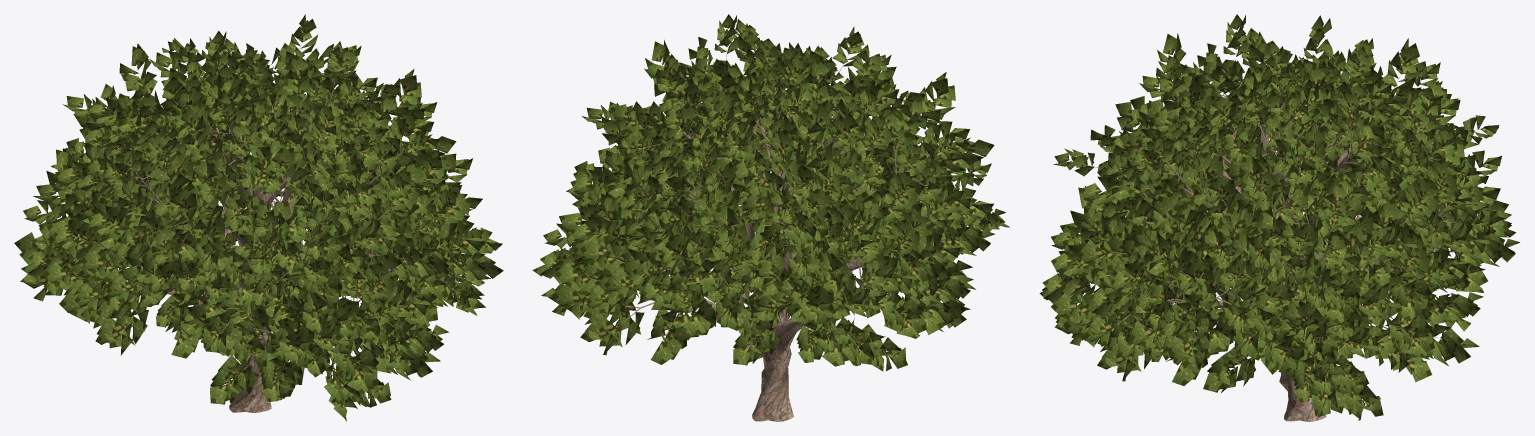
File: SM_Tree_01.fbx
The picture shows the model from 3 angles, left to right: view 1: azimuth 30°, elevation 25°; view 2: azimuth 150°, elevation 25°; view 3: azimuth 270°, elevation 25°; orthographic projection. The views are drawn at different scales.
Visible parts, largest first — view 1: SM_Tree_01_LOD0; view 2: SM_Tree_01_LOD0; view 3: SM_Tree_01_LOD0.
Boxes of the visible parts, x1=… form: SM_Tree_01_LOD0: x1=14, y1=14, x2=503, y2=421; SM_Tree_01_LOD0: x1=532, y1=14, x2=1009, y2=421; SM_Tree_01_LOD0: x1=1039, y1=14, x2=1519, y2=421.
Size of the model in its own units: 1251 by 1238 by 1060.
Materials: 2 (2 with a texture image).
